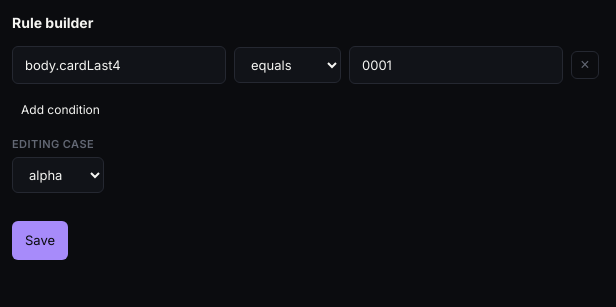
RuleBuilder › saves an edited condition via PATCH and reports success
Step 1. Replace the text in the field named "Condition value" with "0002" → (456, 65), box [349,46,563,84]
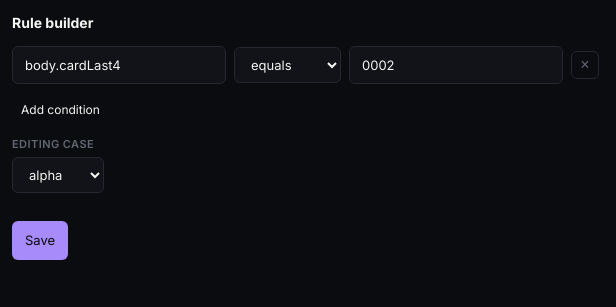
Step 2. Click the button "Save" → (40, 241), box [12,222,68,260]
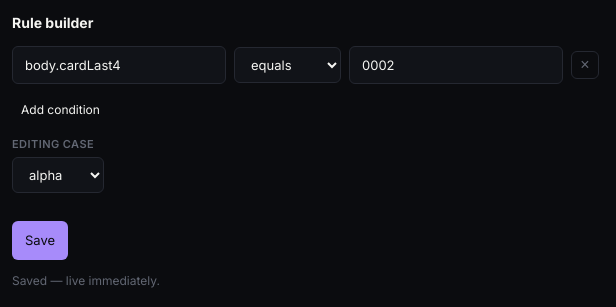
Expected: the text "Saved — live immediately." is shown, [12,272,160,290]
